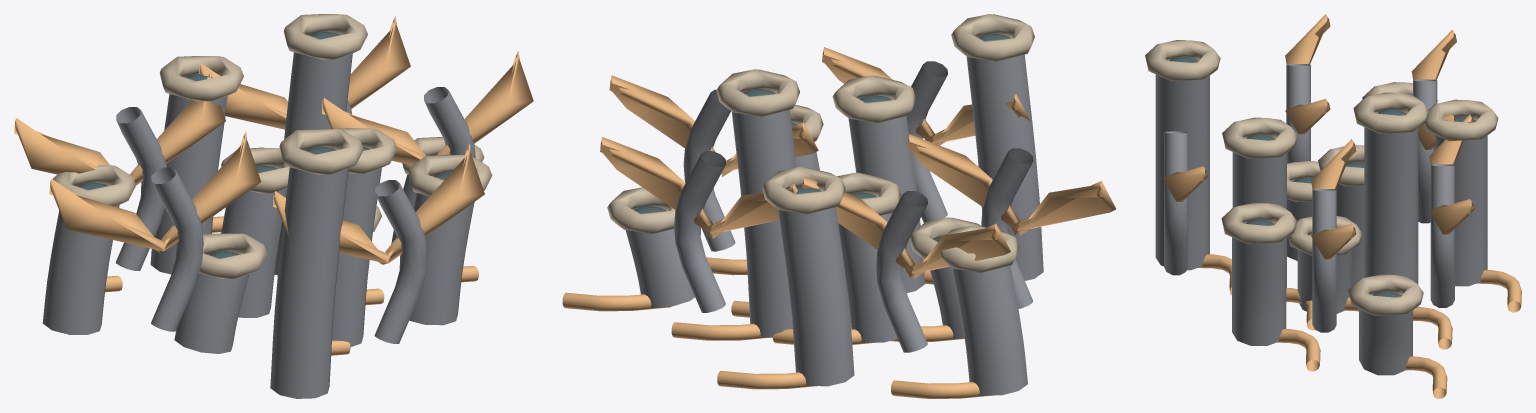
File: bio_thermal_colony_02_far.glb
3 views of the same model, side by side, from view 1: azimuth 30°, elevation 25°; view 2: azimuth 150°, elevation 25°; view 3: azimuth 270°, elevation 25° (orthographic). The views are drawn at different scales.
Visible parts, largest first — view 1: Chimney biofilm.007, Secondary fan lobe.008, Chimney biofilm.009, Secondary fan lobe.002, Secondary fan lobe.006, Branching support.004, Branching support.002, Chimney biofilm.002, Secondary fan lobe, Chimney biofilm.005, Secondary fan lobe.004, Chimney biofilm.004 (+14 smaller); view 2: Chimney biofilm.006, Chimney biofilm.003, Chimney biofilm.007, Chimney biofilm.009, Secondary fan lobe.008, Secondary fan lobe.006, Branching support.003, Branching support.001, Secondary fan lobe.002, Chimney biofilm.002, Chimney biofilm.001, Chimney biofilm.008 (+21 smaller); view 3: Chimney biofilm.003, Chimney biofilm.007, Chimney biofilm.005, Chimney biofilm.006, Chimney biofilm.008, Branching support.002, Branching support.003, Branching support, Chimney biofilm.002, Open vent rim.002, Open vent rim.007, Open vent rim.008 (+23 smaller).
Boxes of the visible parts, <box> form: Chimney biofilm.007: <box>270,167,348,398</box>; Secondary fan lobe.008: <box>49,131,261,252</box>; Chimney biofilm.009: <box>42,205,119,334</box>; Secondary fan lobe.002: <box>14,71,225,185</box>; Secondary fan lobe.006: <box>199,16,410,129</box>; Branching support.004: <box>151,167,203,331</box>; Branching support.002: <box>374,180,427,343</box>; Chimney biofilm.002: <box>332,168,381,347</box>; Secondary fan lobe: <box>322,51,533,165</box>; Chimney biofilm.005: <box>409,193,474,325</box>; Secondary fan lobe.004: <box>273,143,484,264</box>; Chimney biofilm.004: <box>174,273,249,353</box>; Chimney biofilm.006: <box>778,207,854,386</box>; Chimney biofilm.003: <box>731,92,796,337</box>; Chimney biofilm.007: <box>966,37,1043,280</box>; Chimney biofilm.009: <box>952,265,1027,395</box>; Secondary fan lobe.008: <box>907,134,1115,235</box>; Secondary fan lobe.006: <box>600,137,797,238</box>; Branching support.003: <box>674,151,726,312</box>; Branching support.001: <box>876,191,927,352</box>; Secondary fan lobe.002: <box>802,176,1010,278</box>; Chimney biofilm.002: <box>848,98,924,292</box>; Chimney biofilm.001: <box>838,213,904,342</box>; Chimney biofilm.008: <box>625,209,694,307</box>; Chimney biofilm.003: <box>1364,113,1418,310</box>; Chimney biofilm.007: <box>1155,60,1209,270</box>; Chimney biofilm.005: <box>1232,223,1286,345</box>; Chimney biofilm.006: <box>1433,120,1487,286</box>; Chimney biofilm.008: <box>1359,295,1412,375</box>; Branching support.002: <box>1164,131,1188,275</box>; Branching support.003: <box>1430,164,1454,307</box>; Branching support: <box>1312,188,1336,332</box>; Chimney biofilm.002: <box>1232,138,1286,287</box>; Open vent rim.002: <box>1222,117,1297,159</box>; Open vent rim.007: <box>1145,40,1220,81</box>; Open vent rim.008: <box>1348,274,1423,315</box>.
Bounding box in the file's own units: 1.85 × 0.9103 × 1.39.
